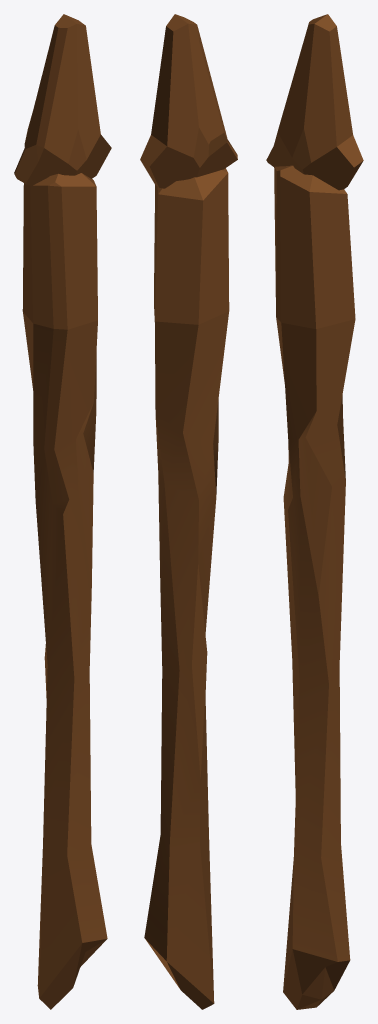
The model's file is Stick_Spear.fbx.
The picture shows the model from 3 angles, left to right: view 1: azimuth 30°, elevation 25°; view 2: azimuth 210°, elevation 25°; view 3: azimuth 330°, elevation 25°; orthographic projection.
Visible parts, largest first — view 1: stoneAxe_handle, stoneAxe_head; view 2: stoneAxe_handle, stoneAxe_head; view 3: stoneAxe_handle, stoneAxe_head.
Part boxes in pixels (x1,y1,x2,y2): stoneAxe_handle: (22,173,107,1009); stoneAxe_head: (14,14,111,186); stoneAxe_handle: (144,168,229,1009); stoneAxe_head: (140,14,237,188); stoneAxe_handle: (274,165,355,1009); stoneAxe_head: (266,14,363,190).
Size of the model in its own units: 0.0656 by 0.6953 by 0.0486.
